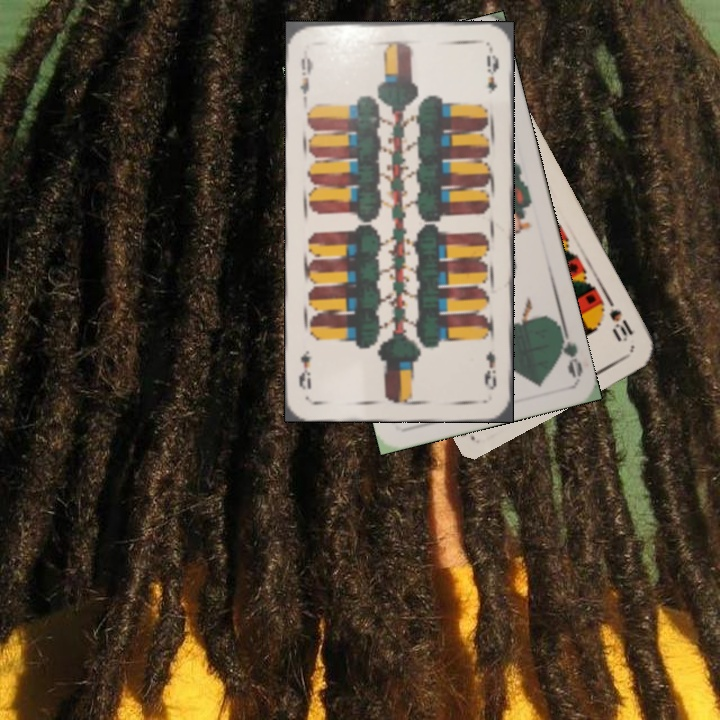E9: (296, 46, 316, 105), (481, 346, 500, 392)
GO: (552, 320, 585, 379)
S10: (602, 292, 636, 344)
